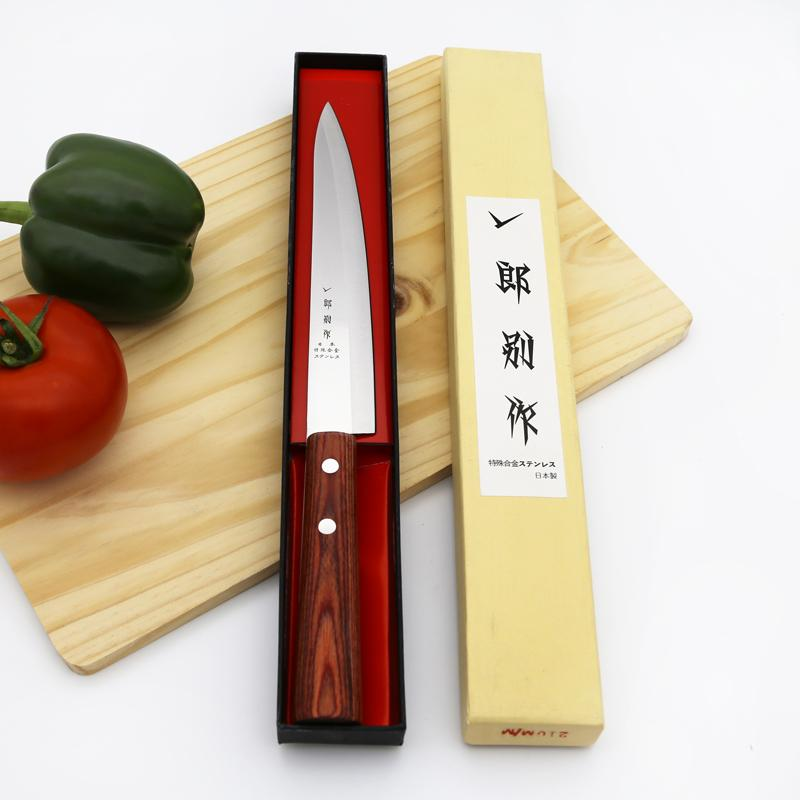knife: (247, 70, 440, 761)
